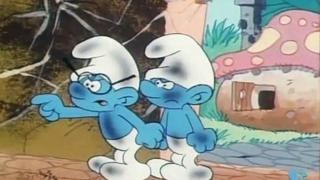smurf: (42, 33, 151, 180), (143, 30, 219, 180)
